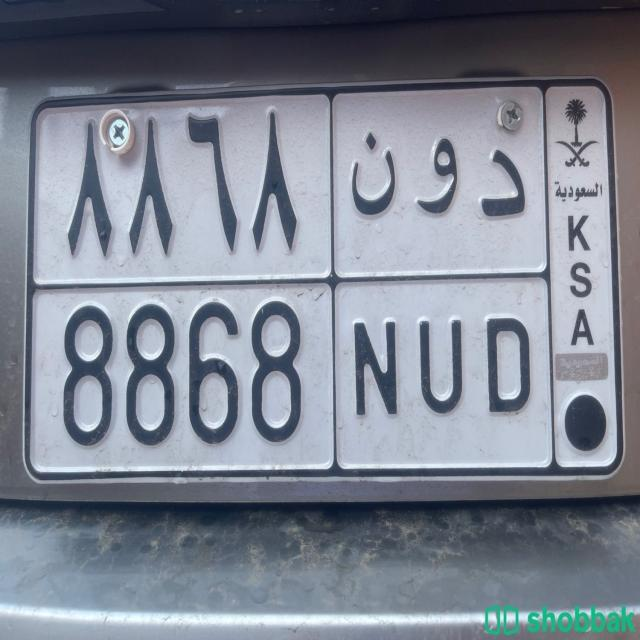license_plate: (51, 288, 544, 460)
